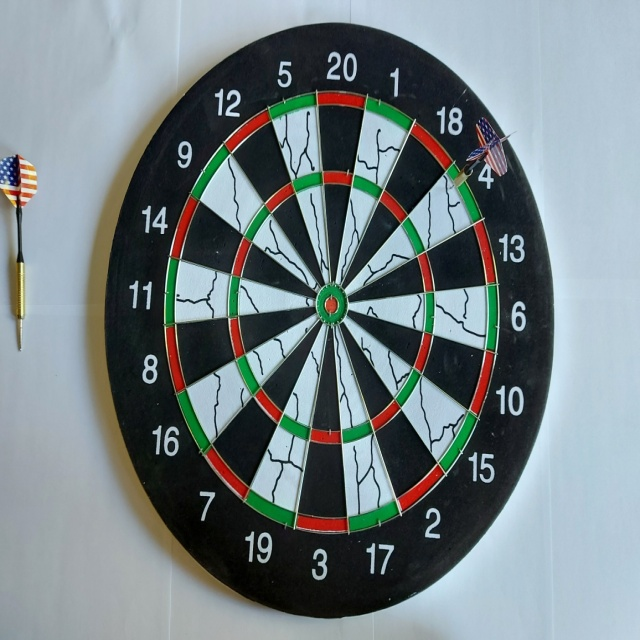Dart: (1, 148, 46, 357), (446, 110, 519, 203)
